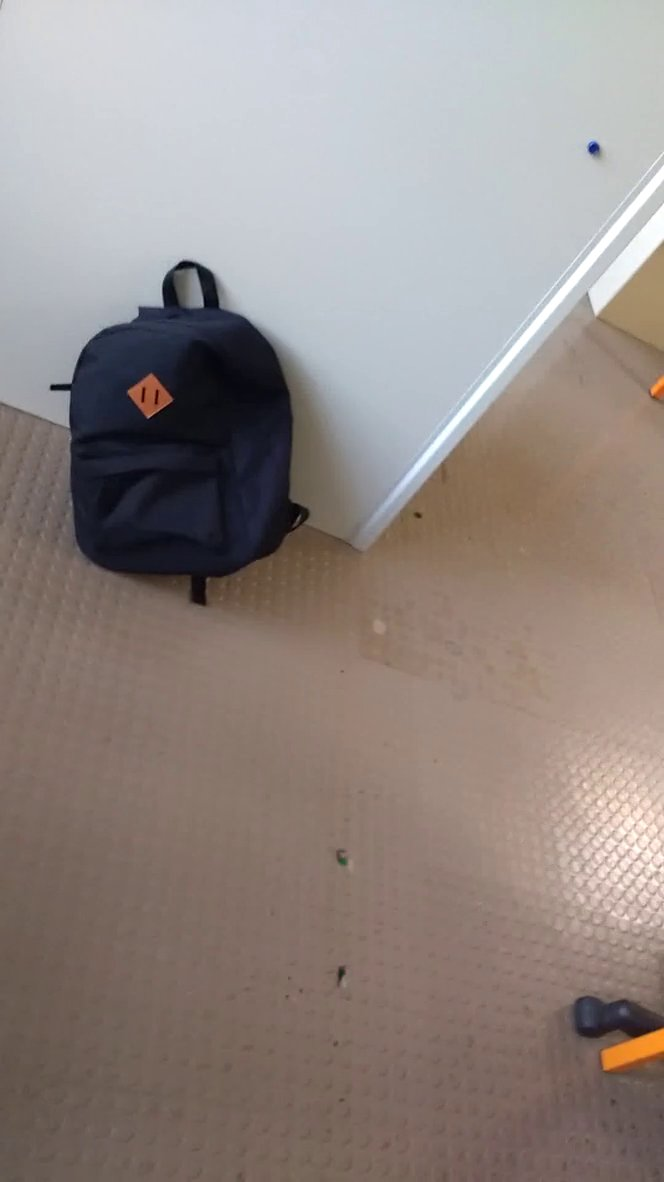bag: (40, 246, 334, 613)
